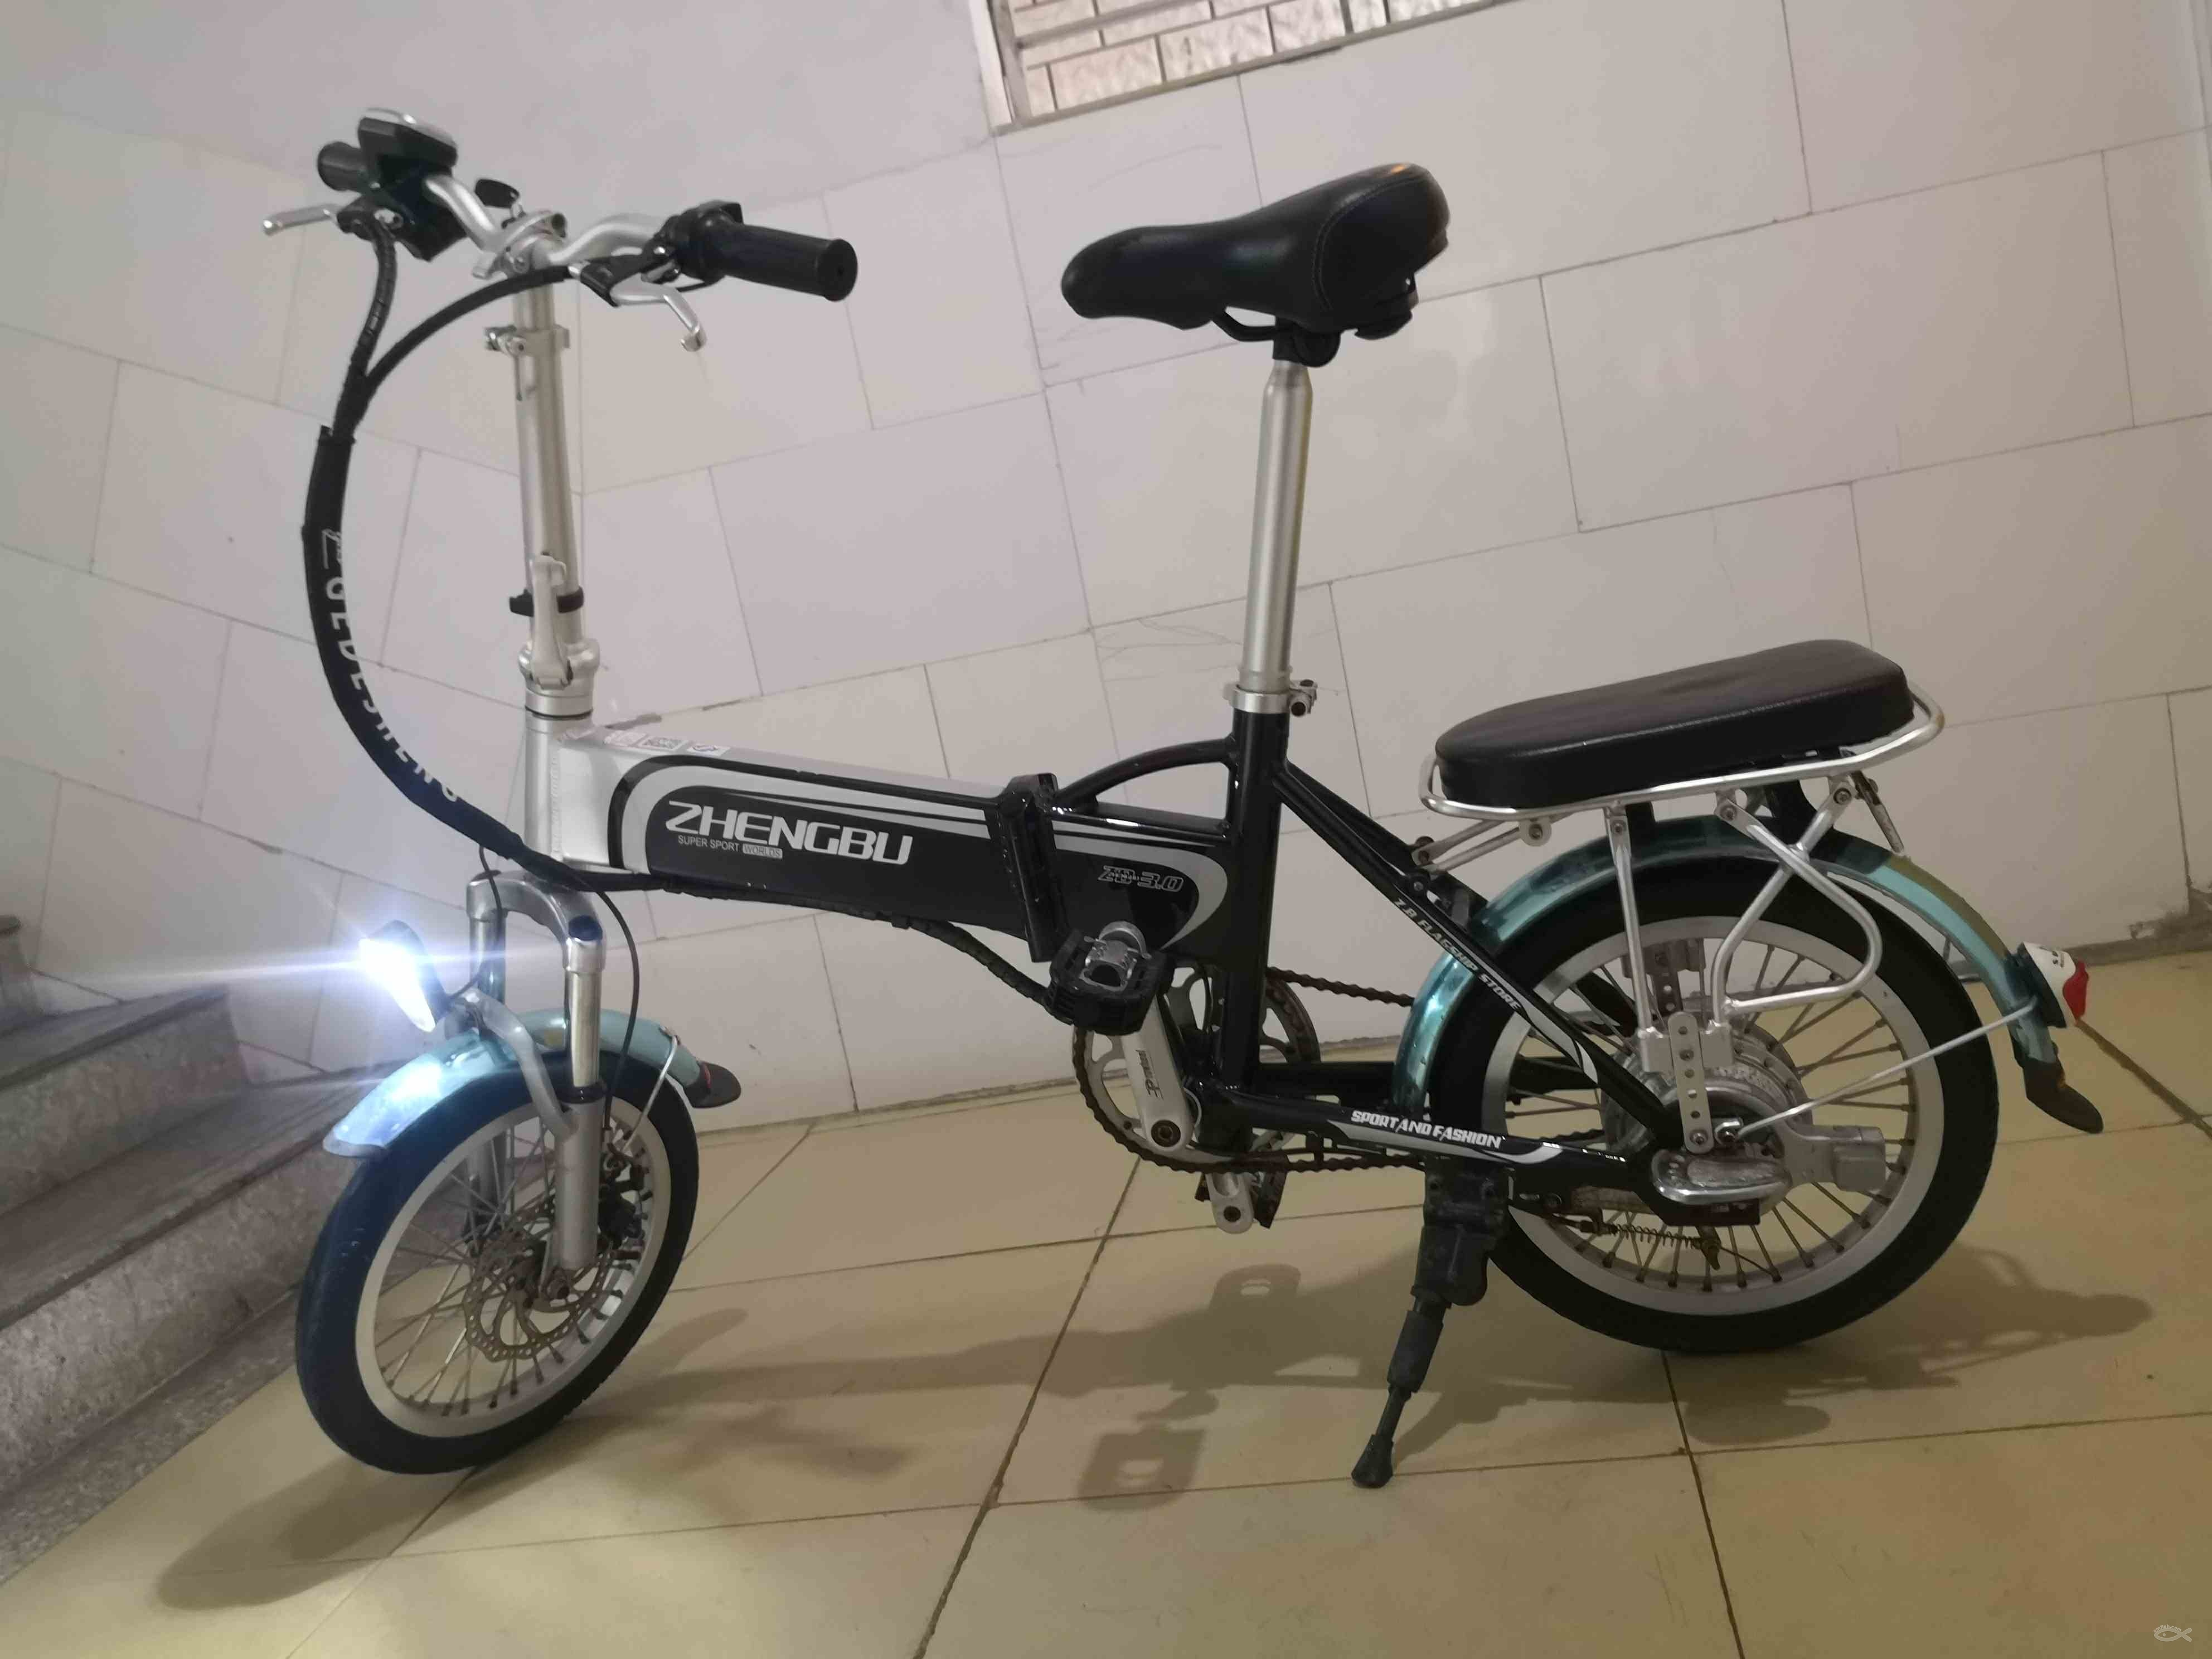电动车: (190, 73, 2149, 1511)
